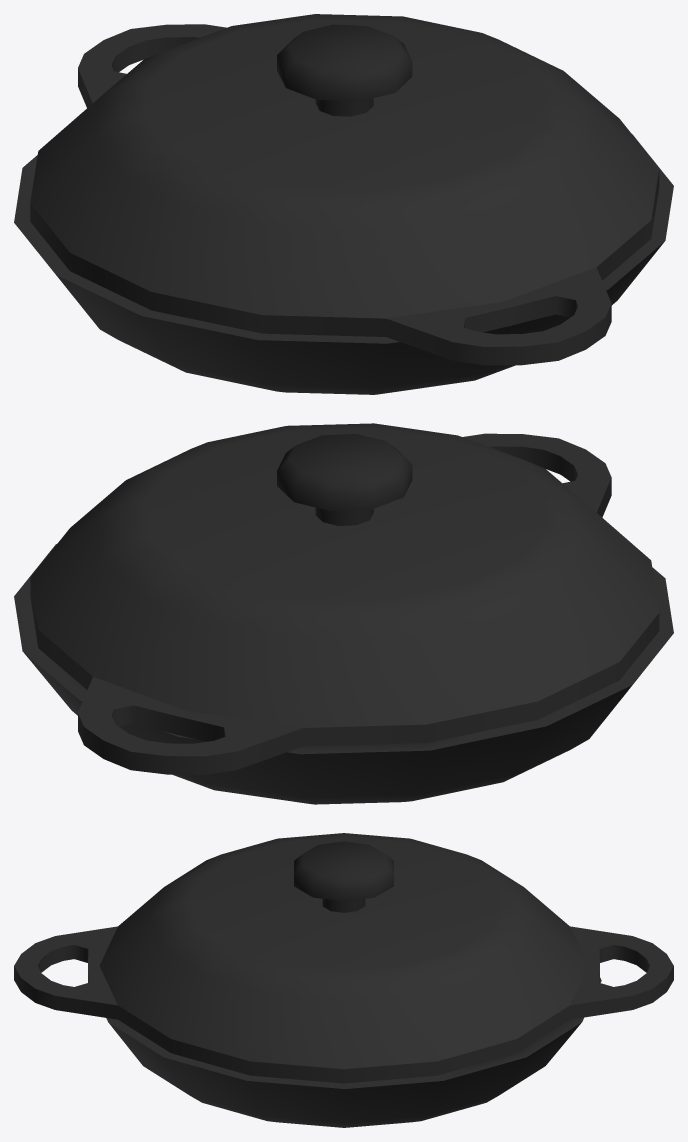
The model's file is Braiser_01.fbx.
3 renders of one model, top to bottom at view 1: azimuth 30°, elevation 25°; view 2: azimuth 150°, elevation 25°; view 3: azimuth 270°, elevation 25°, orthographic. The views are drawn at different scales.
Parts seen in each view (by area): view 1: Braiser_01_Lid, Braiser_01; view 2: Braiser_01_Lid, Braiser_01; view 3: Braiser_01_Lid, Braiser_01.
Part boxes in pixels (<box>): Braiser_01_Lid: <box>30,14,659,365</box>; Braiser_01: <box>14,134,673,394</box>; Braiser_01_Lid: <box>30,423,659,774</box>; Braiser_01: <box>14,544,673,804</box>; Braiser_01_Lid: <box>14,833,673,1083</box>; Braiser_01: <box>106,977,601,1127</box>.
Bounding box in the file's own units: 0.423 × 0.1764 × 0.544.
